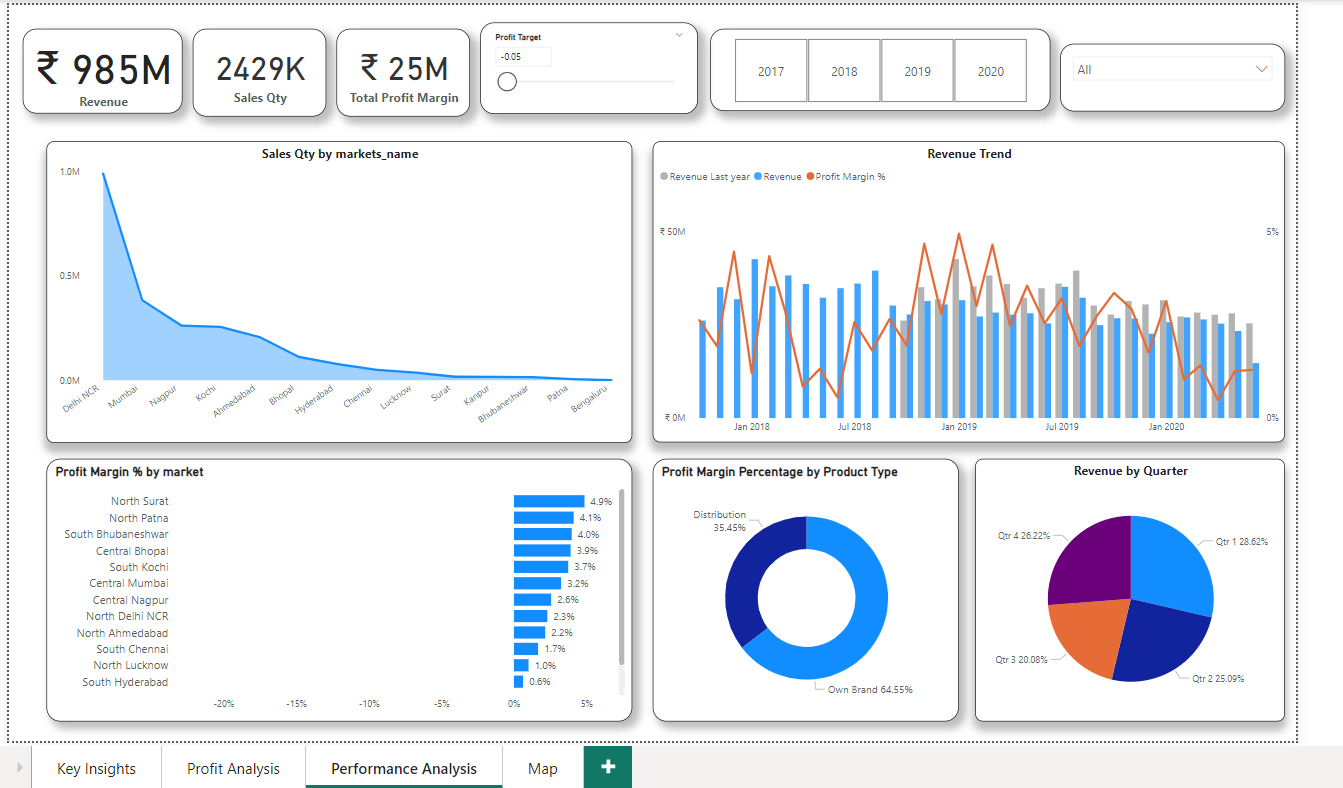

What the dashboard file says about the page in this screenshot:
{"tool":"powerbi","page":{"name":"Performance Analysis","canvas":[1689,966],"ordinal":2},"visuals":[{"type":"card","fields":{"Values":["BaseMeasures.Revenue"]},"box":[18,31.2,209.9,111.5],"z":0},{"type":"card","fields":{"Values":["BaseMeasures.Sales Qty"]},"box":[241.1,31.2,175.5,114.8],"z":1000},{"type":"slicer","fields":{"Values":["sales date.year"]},"box":[920.1,31.2,446.1,108.2],"z":2000},{"type":"slicer","fields":{"Values":["sales date.month_name"]},"box":[1379.3,50.8,295.2,88.6],"z":3000},{"type":"lineClusteredColumnComboChart","title":"Revenue Trend","fields":{"Category":["sales date.cy_date"],"Y":["BaseMeasures.Revenue Last year","BaseMeasures.Revenue"],"Y2":["BaseMeasures.Profit Margin %"]},"box":[844.6,178.8,829.9,395.3],"z":4000},{"type":"card","fields":{"Values":["BaseMeasures.Total Profit Margin"]},"box":[429.7,31.2,175.5,114.8],"z":5000},{"type":"barChart","title":"Profit Margin % by market","fields":{"Category":["sales markets.zone","sales markets.markets_name"],"Y":["BaseMeasures.Profit Margin %"]},"box":[49.2,595.3,769.2,344.4],"z":6000},{"type":"slicer","fields":{"Values":["Profit Target.Profit Target"]},"box":[618.3,23,285.4,119.7],"z":7000},{"type":"areaChart","fields":{"Category":["sales markets.markets_name"],"Y":["BaseMeasures.Sales Qty"]},"box":[49.5,179,769.1,396],"z":8000},{"type":"pieChart","fields":{"Category":["sales date.cy_date.Variation.Date Hierarchy.Quarter"],"Y":["BaseMeasures.Revenue"]},"box":[1267.8,595.3,406.7,344.4],"z":9000},{"type":"donutChart","title":"Profit Margin Percentage by Product Type","fields":{"Category":["sales products.product_type"],"Y":["Sum(sales transactions.profit_margin_percentage)"]},"box":[844.6,595.3,401.8,344.4],"z":10000}]}

Visuals, with their boxes in screenshot pixels (x1, y1, x2, y2):
card - BaseMeasures.Revenue: BBox(24, 31, 183, 115)
card - BaseMeasures.Sales Qty: BBox(193, 31, 326, 117)
slicer - sales date.year: BBox(706, 31, 1044, 112)
slicer - sales date.month_name: BBox(1054, 45, 1277, 112)
"Revenue Trend" lineClusteredColumnComboChart: BBox(649, 142, 1277, 441)
card - BaseMeasures.Total Profit Margin: BBox(335, 31, 468, 117)
"Profit Margin % by market" barChart: BBox(48, 457, 629, 718)
slicer - Profit Target.Profit Target: BBox(478, 24, 694, 115)
areaChart - sales markets.markets_name x BaseMeasures.Sales Qty: BBox(48, 142, 630, 442)
pieChart - sales date.cy_date.Variation.Date Hierarchy.Quarter x BaseMeasures.Revenue: BBox(969, 457, 1277, 718)
"Profit Margin Percentage by Product Type" donutChart: BBox(649, 457, 953, 718)
